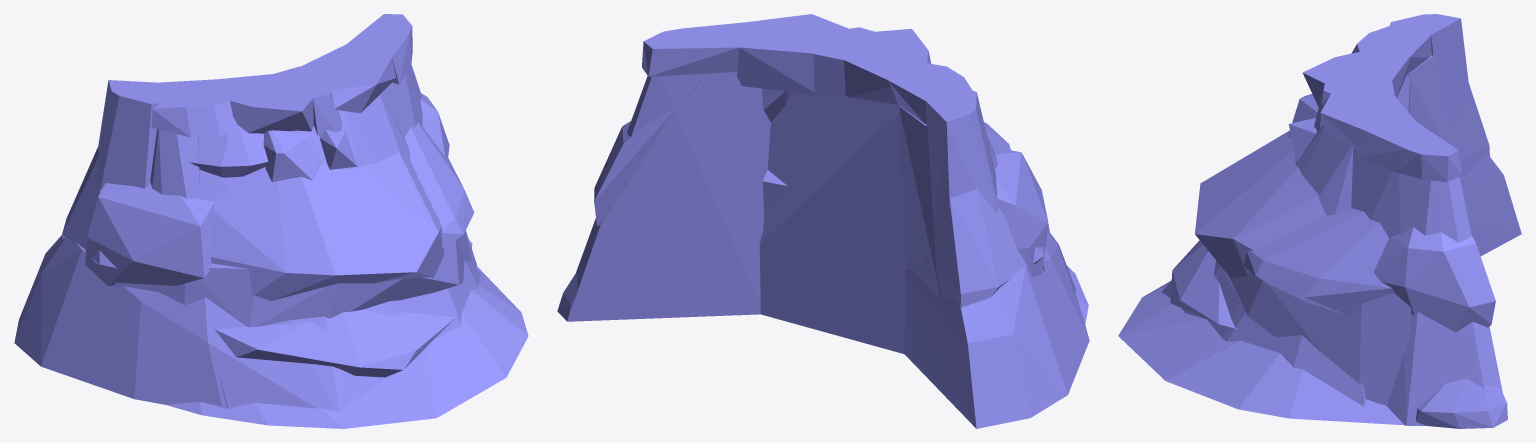
Rendered from Cliff_Wall_02_Taper_Collider_01.FBX.
3 renders of one model, left to right at view 1: azimuth 30°, elevation 25°; view 2: azimuth 150°, elevation 25°; view 3: azimuth 270°, elevation 25°, orthographic. The views are drawn at different scales.
Parts seen in each view (by area): view 1: COLLIDER13, COLLIDER2, COLLIDER20, COLLIDER1, COLLIDER7, COLLIDER21, COLLIDER22, COLLIDER3, COLLIDER6, COLLIDER9, COLLIDER4, COLLIDER15 (+9 smaller); view 2: COLLIDER12, COLLIDER1, COLLIDER2, COLLIDER18, COLLIDER3, COLLIDER9, COLLIDER5, COLLIDER10, COLLIDER6, COLLIDER7, COLLIDER14, COLLIDER4 (+4 smaller); view 3: COLLIDER20, COLLIDER12, COLLIDER13, COLLIDER22, COLLIDER15, COLLIDER14, COLLIDER1, COLLIDER10, COLLIDER2, COLLIDER11, COLLIDER3, COLLIDER9 (+8 smaller).
Boxes of the visible parts, <box> form: COLLIDER13: <box>210,153,443,300</box>; COLLIDER2: <box>14,235,229,408</box>; COLLIDER20: <box>166,266,528,428</box>; COLLIDER1: <box>198,94,480,411</box>; COLLIDER7: <box>85,182,214,286</box>; COLLIDER21: <box>214,307,456,377</box>; COLLIDER22: <box>115,231,471,327</box>; COLLIDER3: <box>96,80,160,190</box>; COLLIDER6: <box>216,73,313,133</box>; COLLIDER9: <box>300,44,395,113</box>; COLLIDER4: <box>151,79,232,137</box>; COLLIDER15: <box>404,122,474,248</box>; COLLIDER12: <box>567,72,770,321</box>; COLLIDER1: <box>759,92,1075,354</box>; COLLIDER2: <box>904,231,1089,428</box>; COLLIDER18: <box>923,188,1043,307</box>; COLLIDER3: <box>926,89,998,276</box>; COLLIDER9: <box>737,14,848,94</box>; COLLIDER5: <box>898,106,997,301</box>; COLLIDER10: <box>642,22,744,76</box>; COLLIDER6: <box>843,29,931,104</box>; COLLIDER7: <box>992,147,1048,276</box>; COLLIDER14: <box>594,77,702,227</box>; COLLIDER4: <box>887,63,972,123</box>; COLLIDER20: <box>1118,281,1404,425</box>; COLLIDER12: <box>1351,147,1507,425</box>; COLLIDER13: <box>1195,130,1326,278</box>; COLLIDER22: <box>1225,271,1411,404</box>; COLLIDER15: <box>1243,208,1393,316</box>; COLLIDER14: <box>1373,227,1495,332</box>; COLLIDER1: <box>1162,75,1410,406</box>; COLLIDER10: <box>1359,122,1461,181</box>; COLLIDER2: <box>1461,153,1521,255</box>; COLLIDER11: <box>1415,378,1507,428</box>; COLLIDER3: <box>1389,14,1469,132</box>; COLLIDER9: <box>1320,93,1415,150</box>.
Size of the model in its own units: 1220 by 661 by 991.
